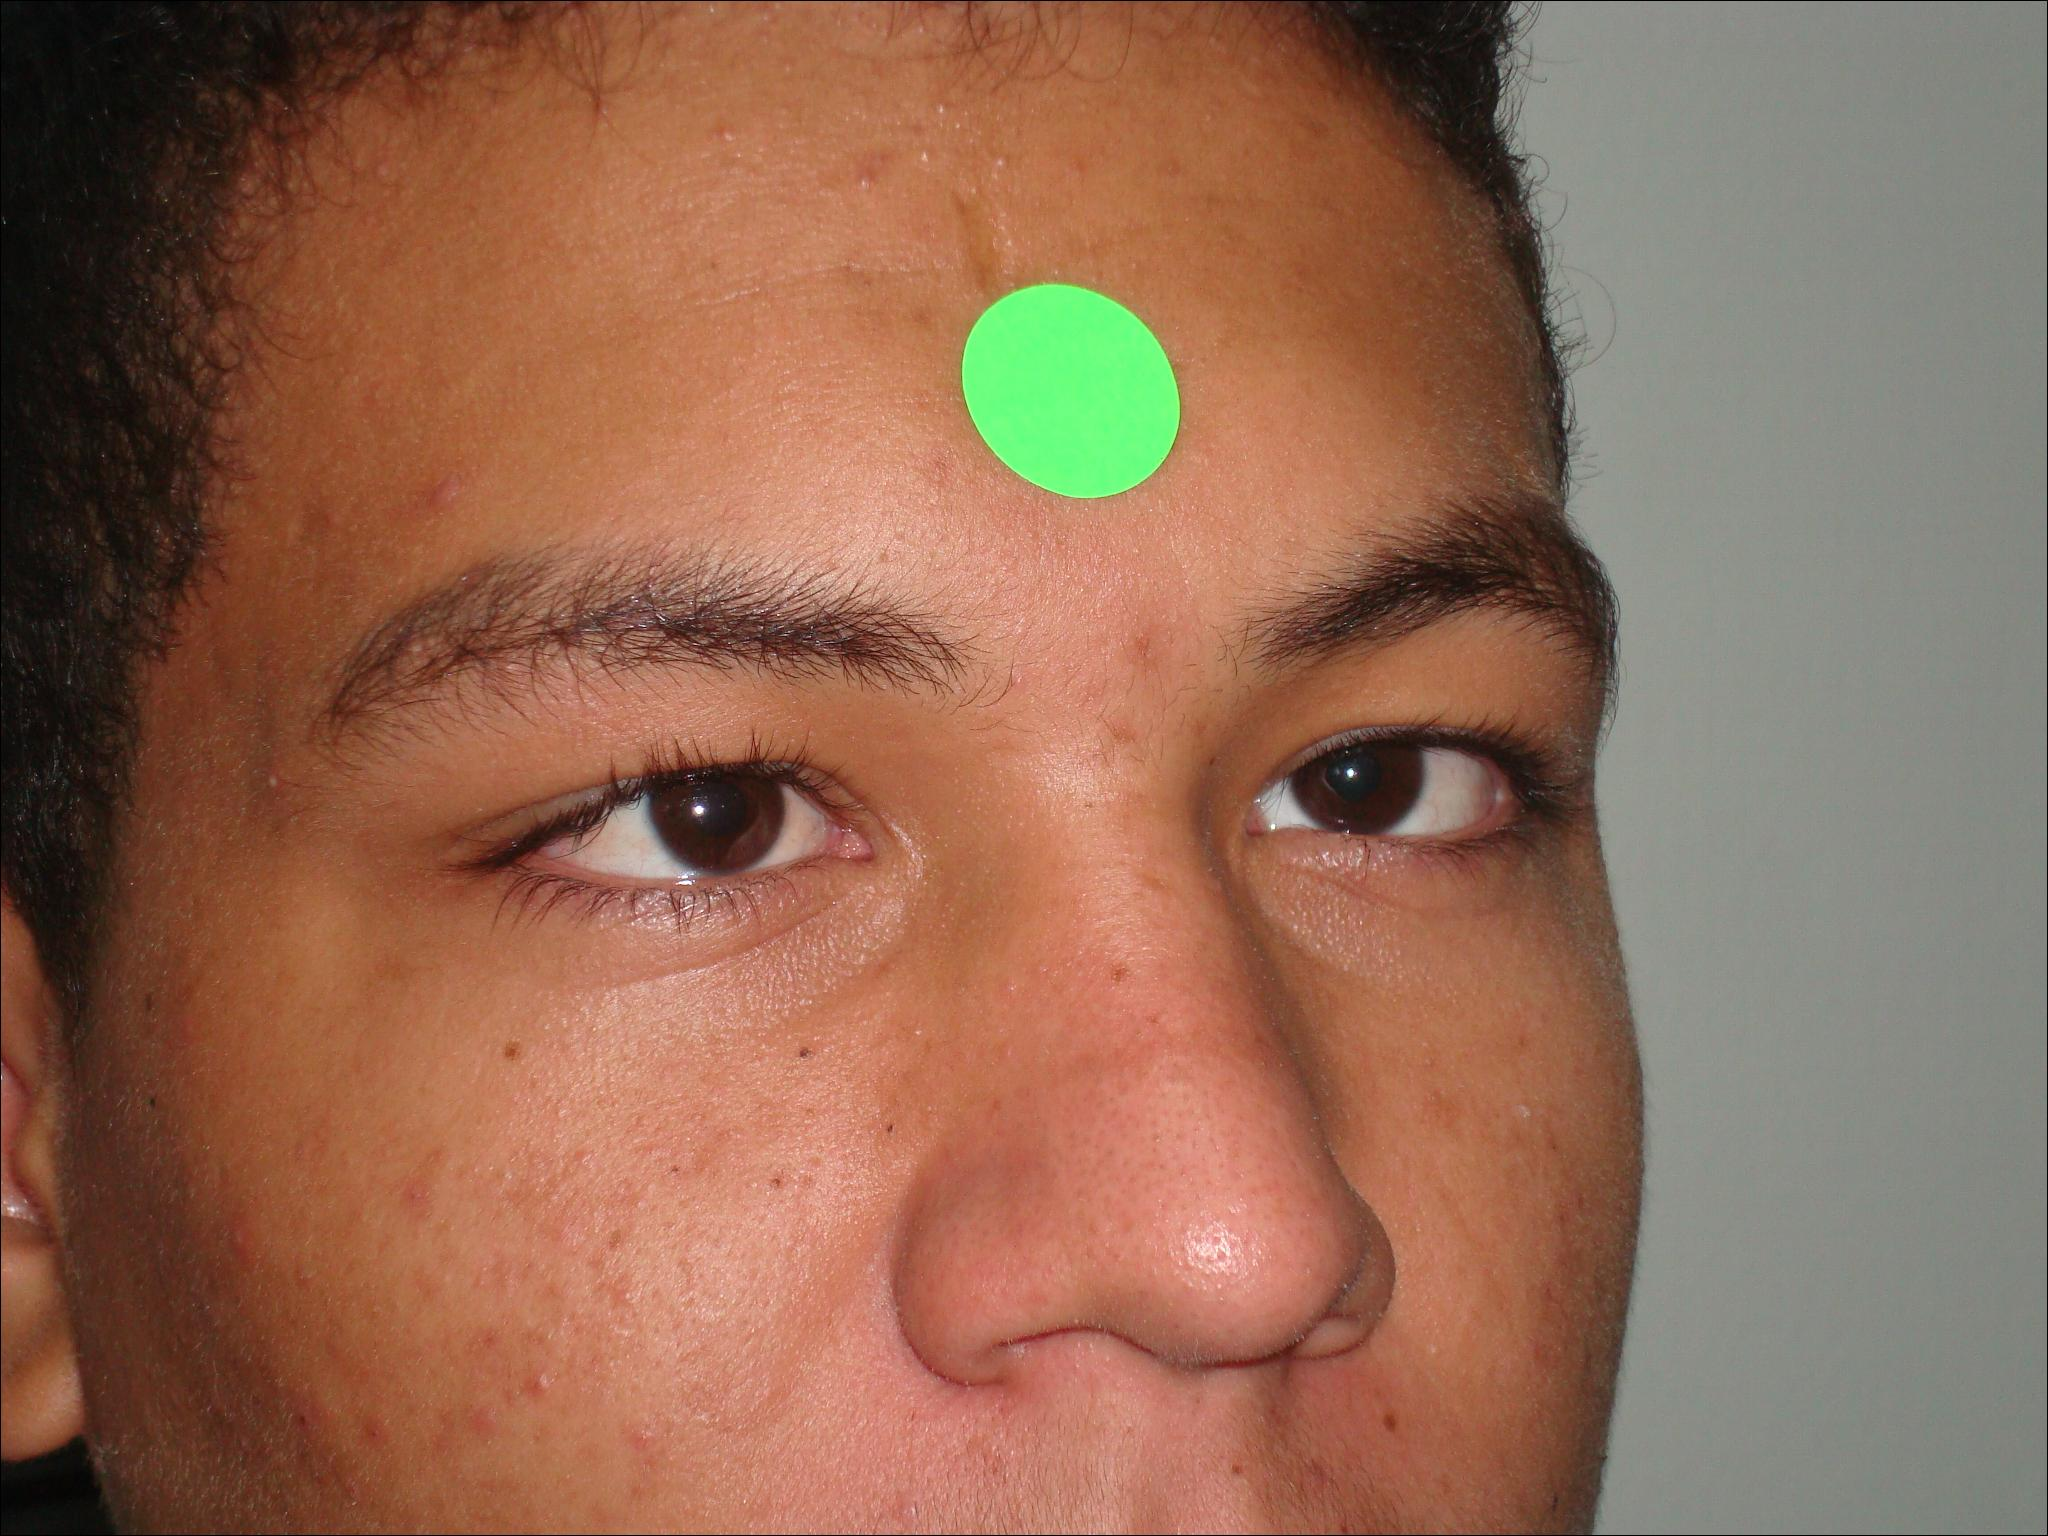flash: (689, 800, 710, 820), (1342, 763, 1359, 784)
limbo: (643, 741, 790, 868), (1292, 723, 1414, 829)
